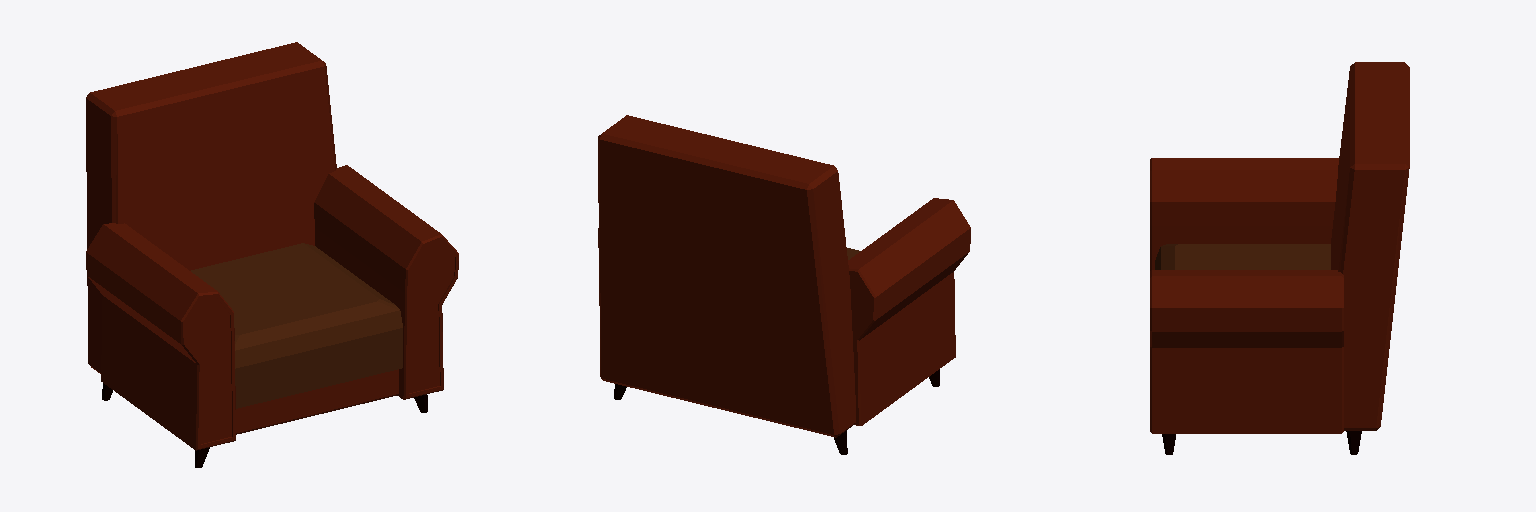
Rendered from ClubArmChair1.obj.
3 views of the same model, side by side, from view 1: azimuth 30°, elevation 25°; view 2: azimuth 150°, elevation 25°; view 3: azimuth 270°, elevation 25° (orthographic).
Visible parts, largest first — view 1: ClubArmChair1_Cube.001, Pad1ClubArmChair1_Cube.013; view 2: ClubArmChair1_Cube.001; view 3: ClubArmChair1_Cube.001, Pad1ClubArmChair1_Cube.013.
Boxes of the visible parts, <box> form: ClubArmChair1_Cube.001: <box>86,42,458,467</box>; Pad1ClubArmChair1_Cube.013: <box>191,243,402,408</box>; ClubArmChair1_Cube.001: <box>598,115,970,454</box>; ClubArmChair1_Cube.001: <box>1150,62,1409,454</box>; Pad1ClubArmChair1_Cube.013: <box>1155,244,1330,269</box>.
Bounding box in the file's own units: 1.12 × 1.1 × 0.906.